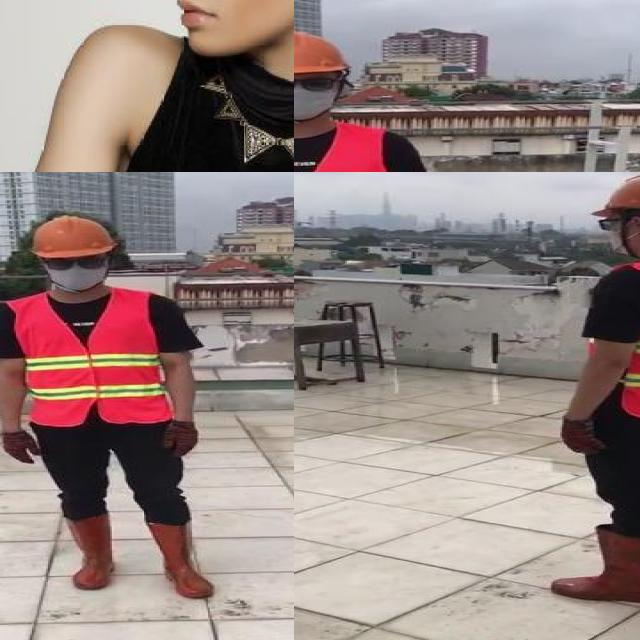boots: (556, 526, 640, 604), (146, 522, 215, 599), (62, 507, 118, 590)
face_mask: (42, 251, 109, 290), (294, 70, 341, 119)
face_nomask: (142, 0, 294, 60)
glasses: (38, 254, 111, 274), (294, 73, 341, 94)
hand_glove: (556, 418, 604, 455), (0, 430, 40, 464), (162, 422, 197, 458)
head_helmet: (29, 212, 122, 258), (294, 27, 348, 75)
person: (0, 210, 233, 604), (0, 0, 294, 172), (294, 30, 443, 172)
vest: (11, 291, 172, 425)
